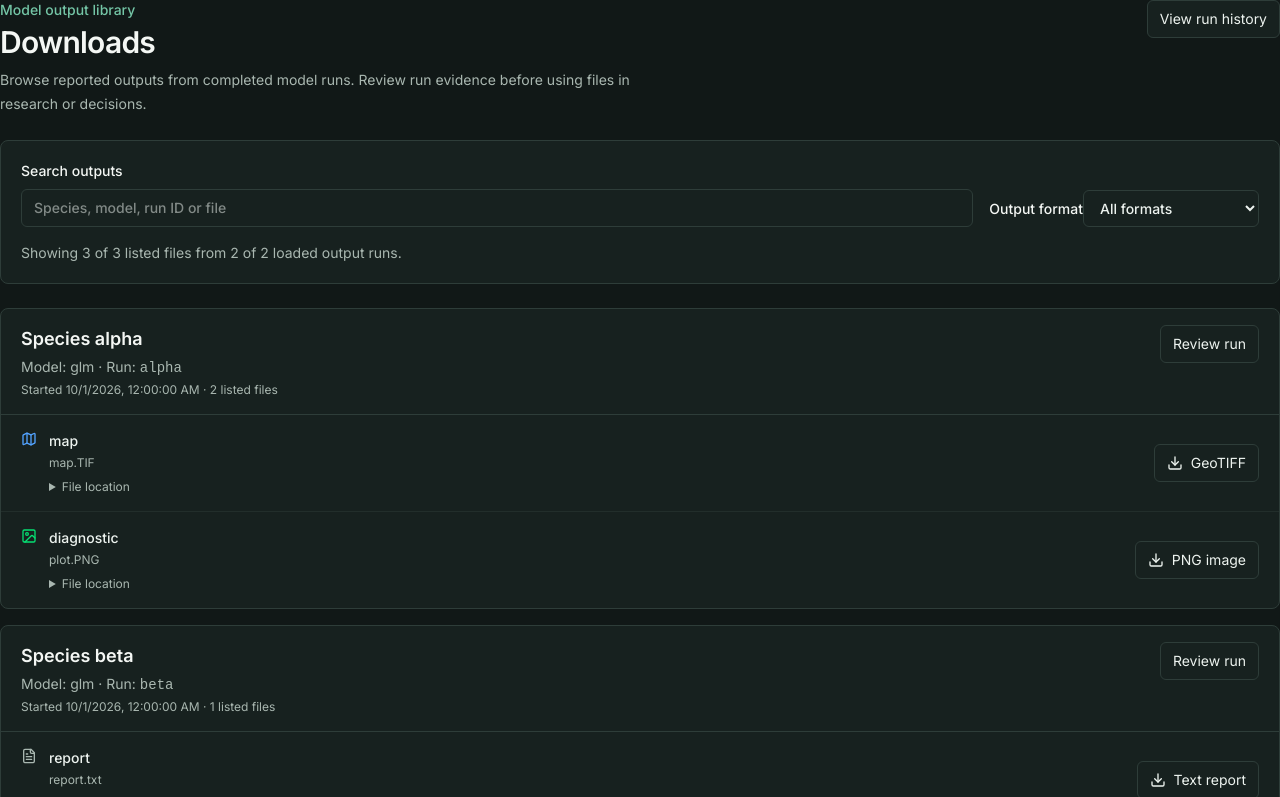
it: downloads output workbench › combines run/output search with file-format filtering and clear recovery
The image size is (1280, 797).
Type "SPECIES ALPHA" into the search field labelled "Search outputs" at (497, 208), box [21,189,973,227]
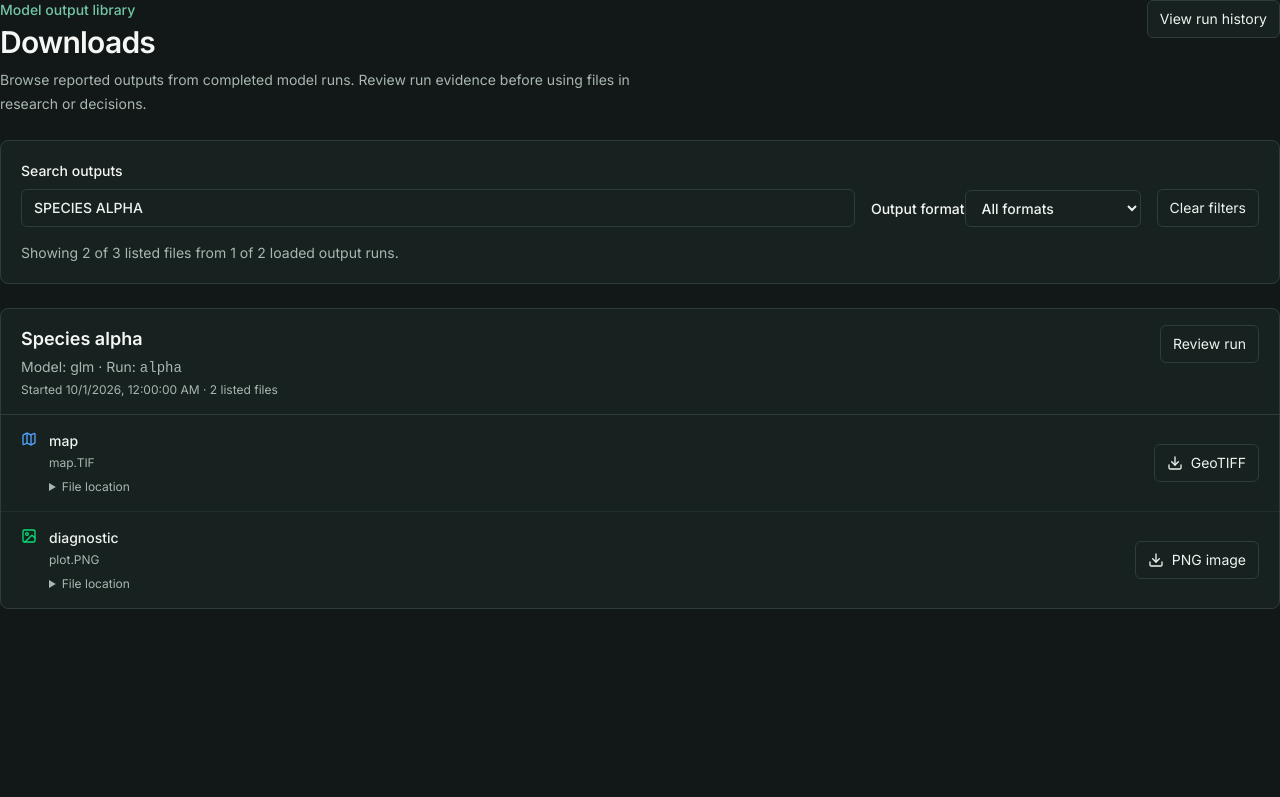
Select "PNG image" in the dropdown labelled "Output format" at (1053, 208), box [965,190,1141,227]
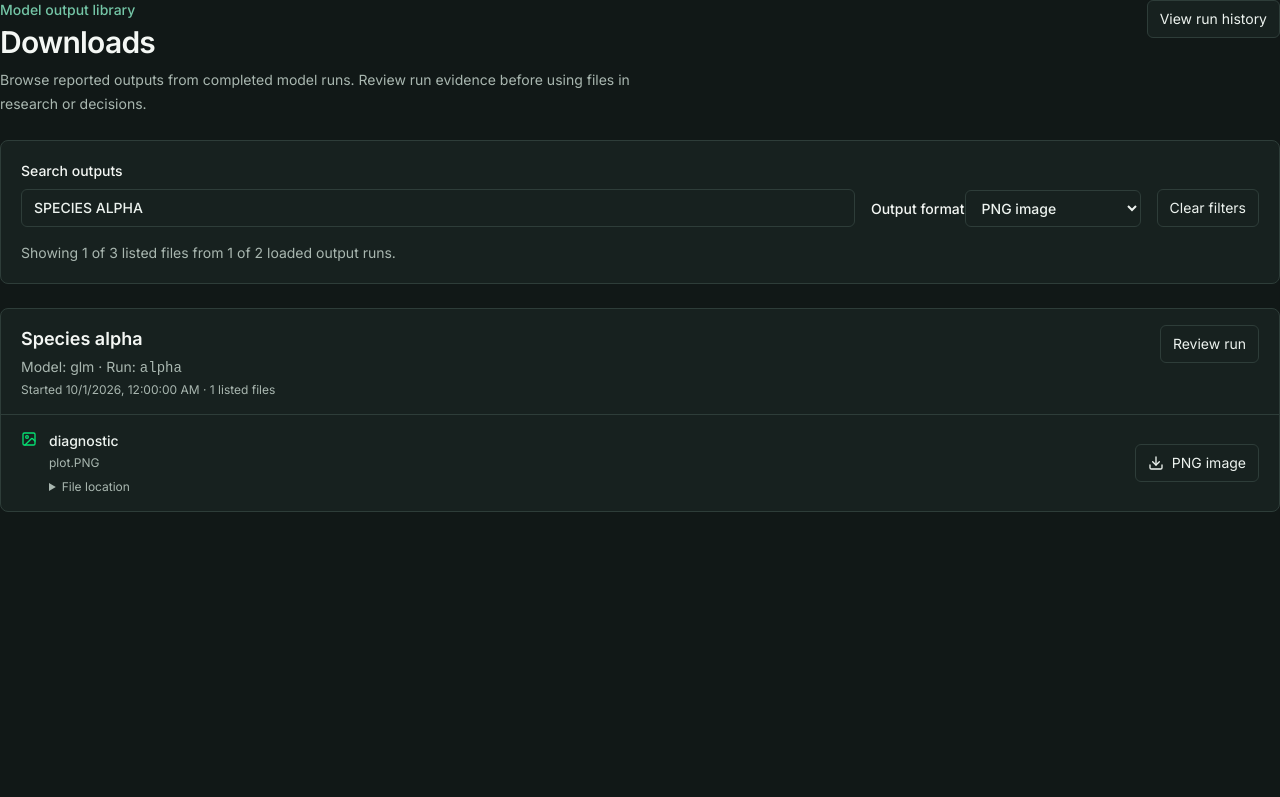
Expected: the link "Text report" is not shown
Expected: the message shows "Showing 1 of 3 listed files", [21,244,396,261]
Replace the text in the search field labelled "Search outputs" with "absent" at (438, 208), box [21,189,855,227]
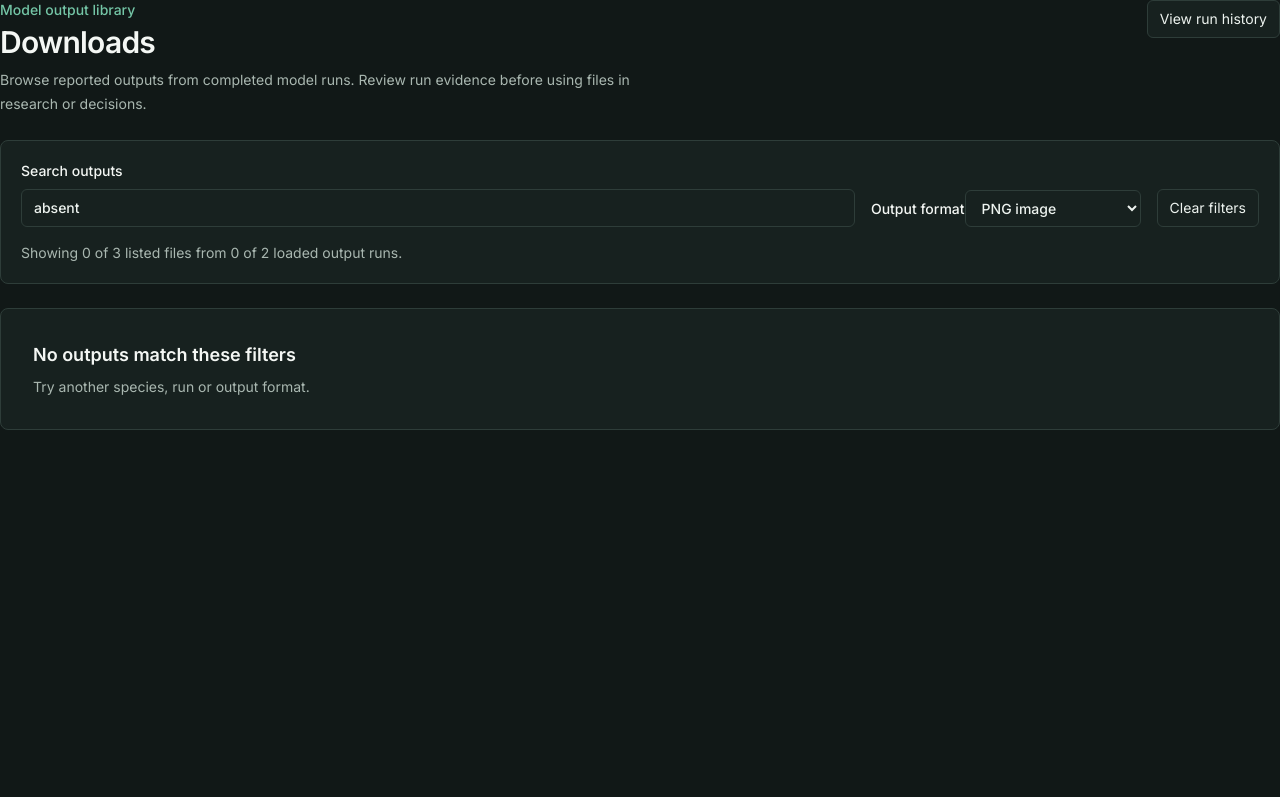
Expected: the heading "No outputs match these filters" is shown, [33,344,296,365]
Click the button "Clear filters" at (1208, 208), box [1157,189,1259,227]
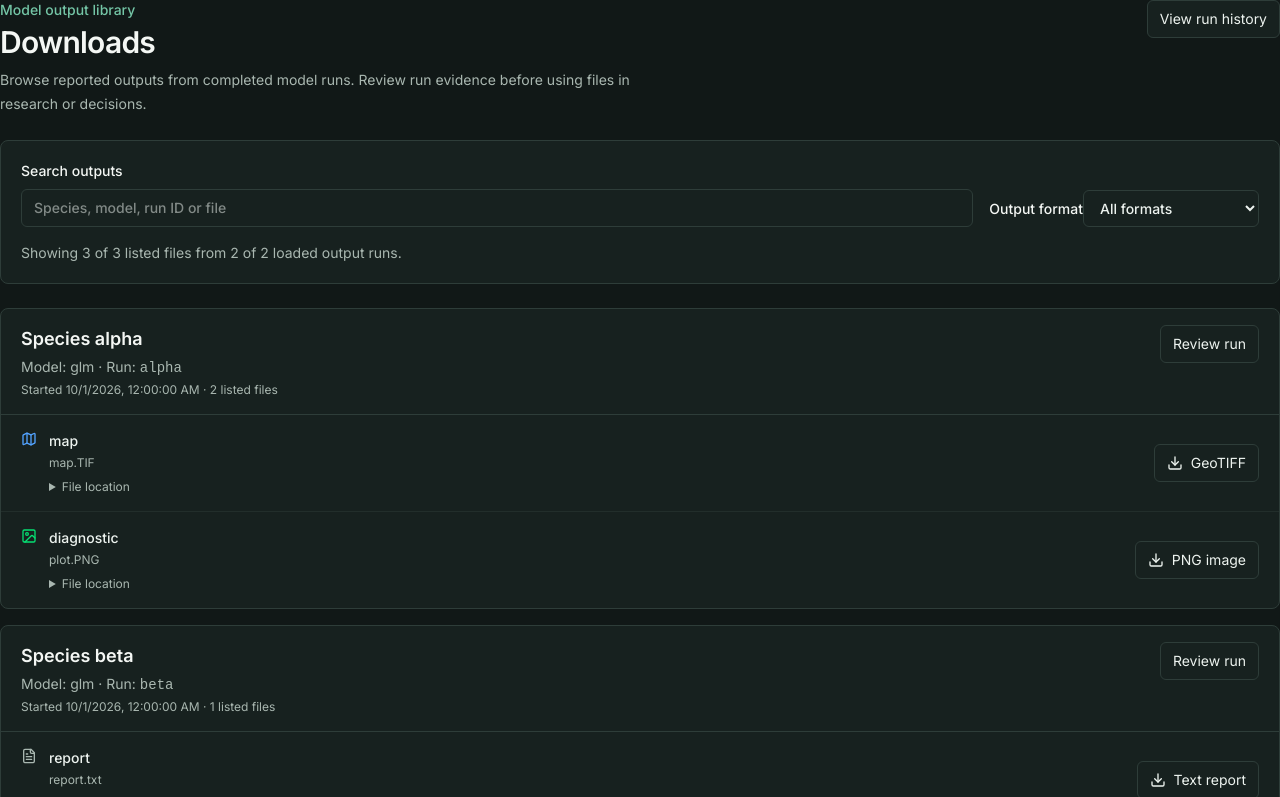
Expected: the search field labelled "Search outputs" is empty, [21,189,973,227]
Expected: the message shows "Showing 3 of 3 listed files", [21,244,402,261]
